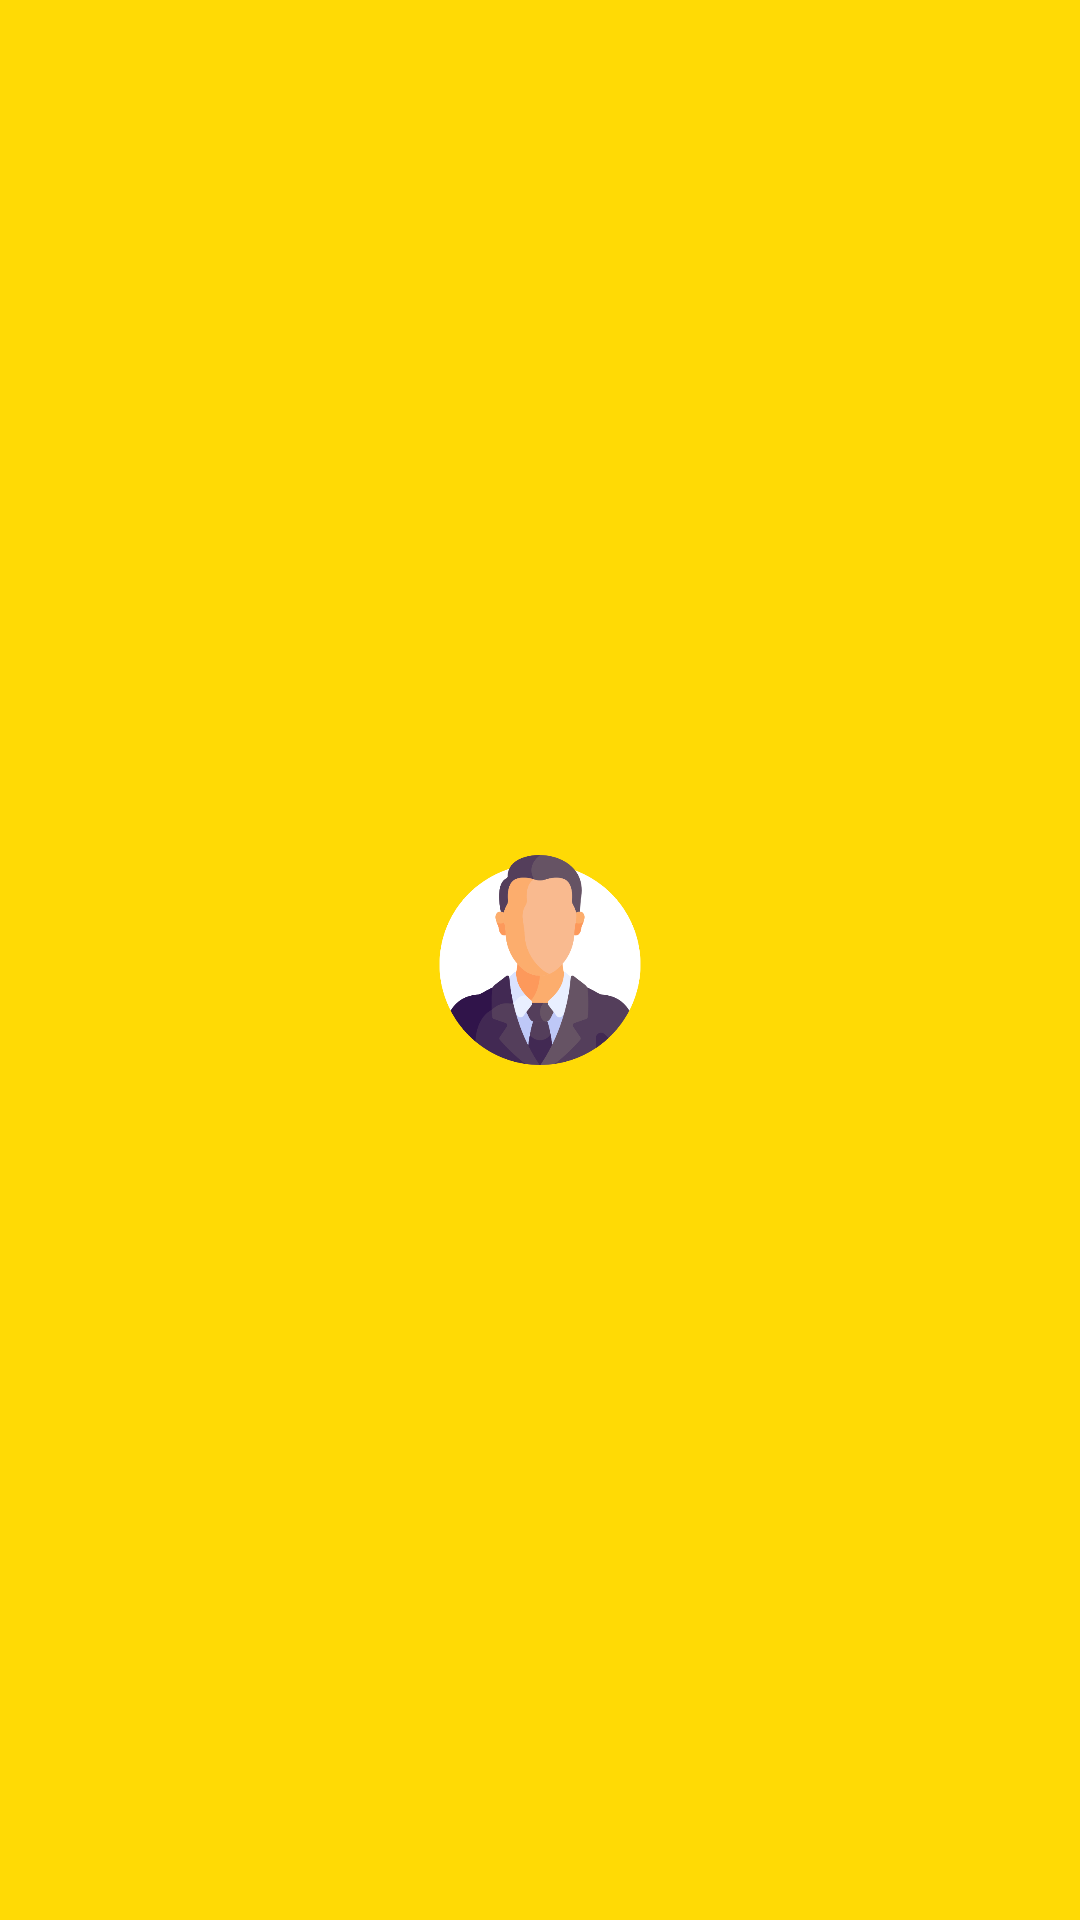

Where icons sit on this 1080 × 1920 app screen, as (x1, y1, x2, y2):
user: (439, 855, 641, 1065)
